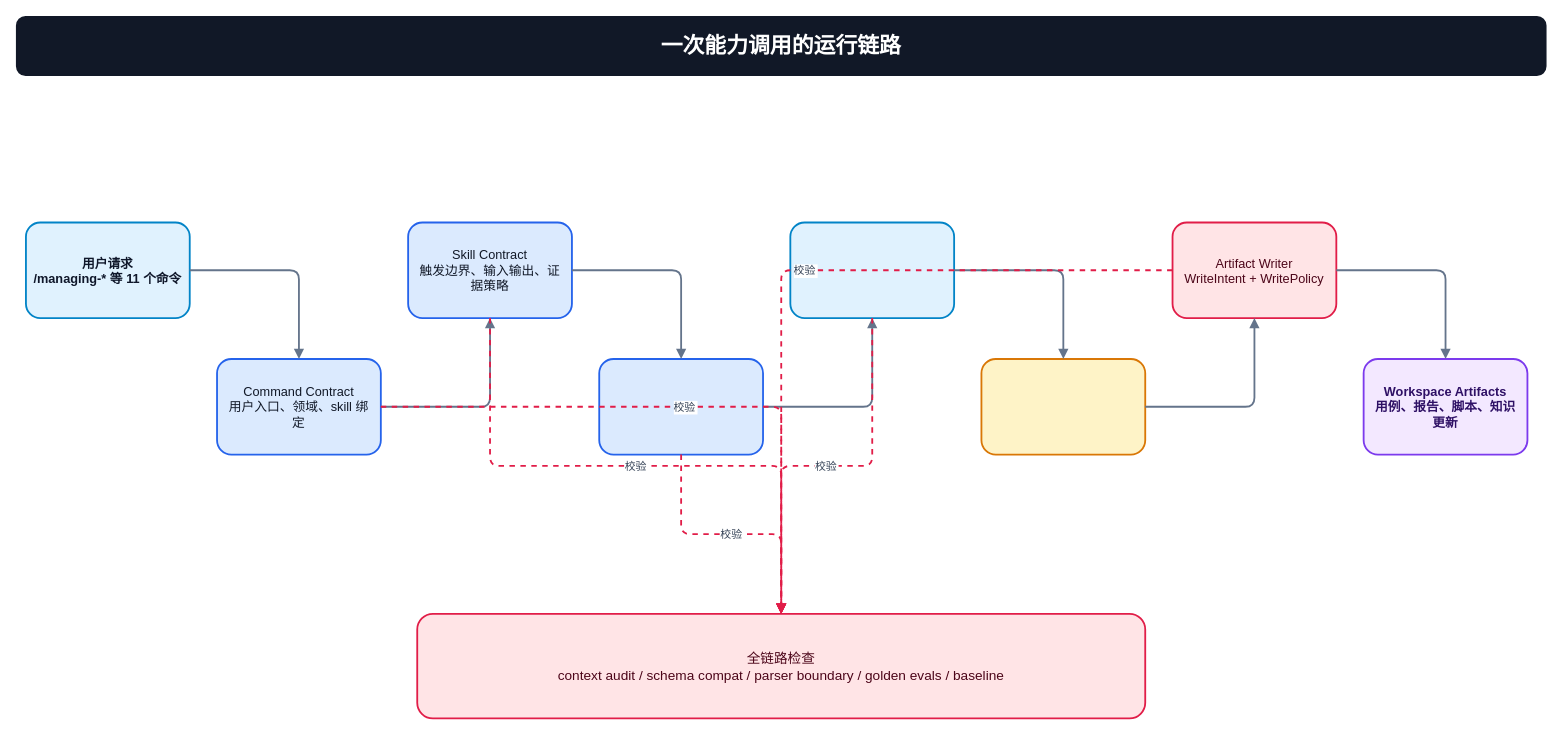
This 1562x734 diagram has some shape labels left out. Here are the shapes that lost their labels. From the top down, the centre of each, then its label:
point (872, 269): Agent + Prompt 角色、上下文预算、输出 schema
point (680, 406): Workflow Contract 步骤、预算、失败模式、staging
point (1063, 406): Plugin / SourceRef Lanhu、Zentao、源码、知识证据
